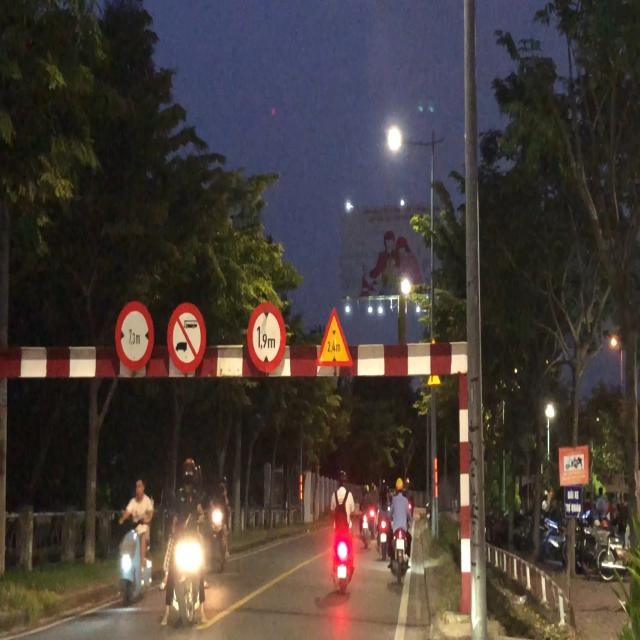Bien bao cam xe oto khach va xe oto tai: (166, 300, 208, 384)
Bien bao chieu cao tinh khong thuc te: (312, 300, 353, 372)
Bien bao han che chieu cao: (247, 299, 290, 377)
